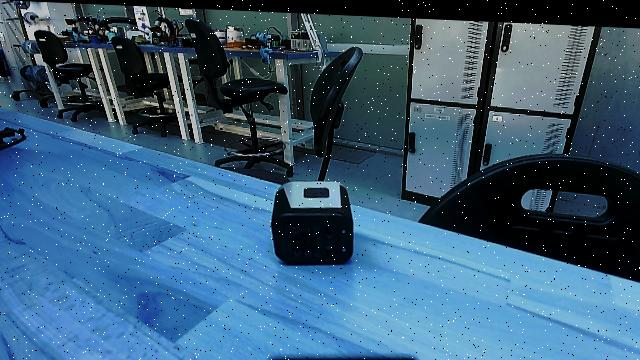adapter: (266, 171, 356, 265)
